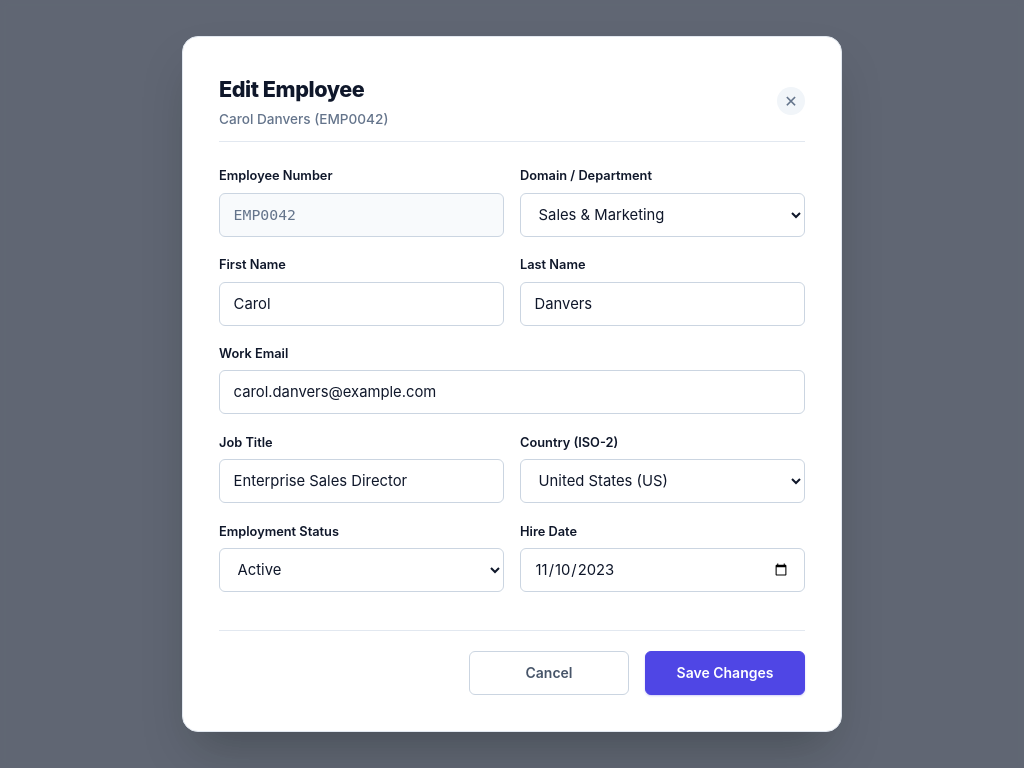
Scenario: EditEmployeeModal Component › displays error banner when update fails
Click the button "Save Changes" at (725, 673), box [645,651,805,695]
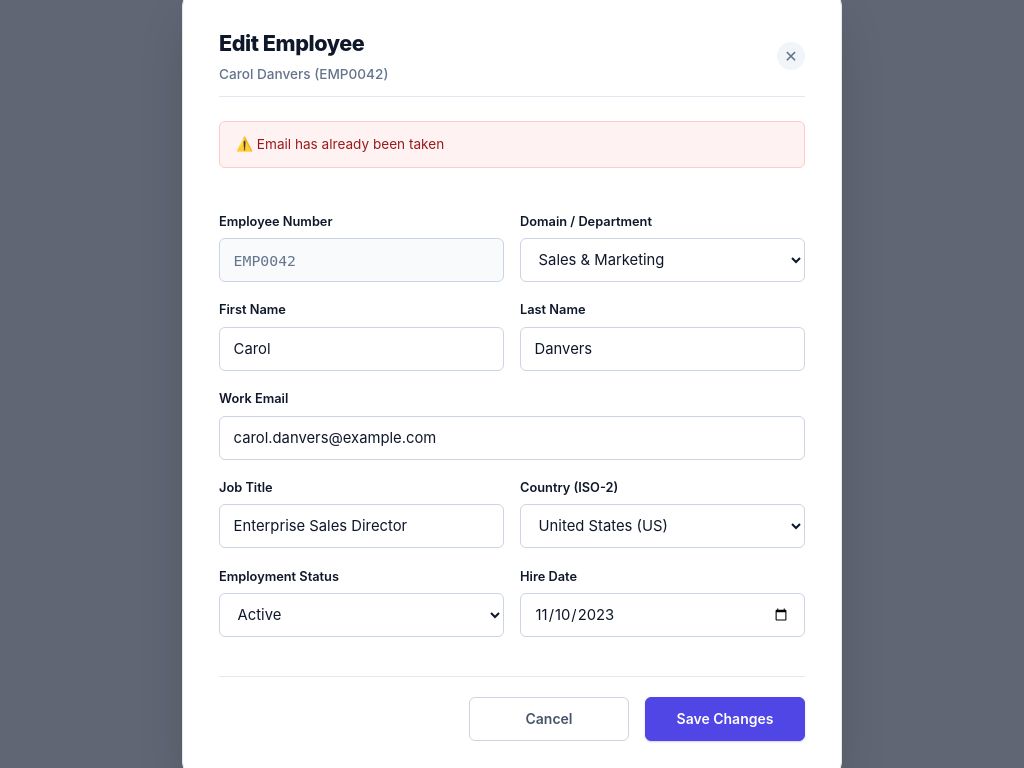
Check: the message shows "Email has already been taken", box [257,136,444,152]
